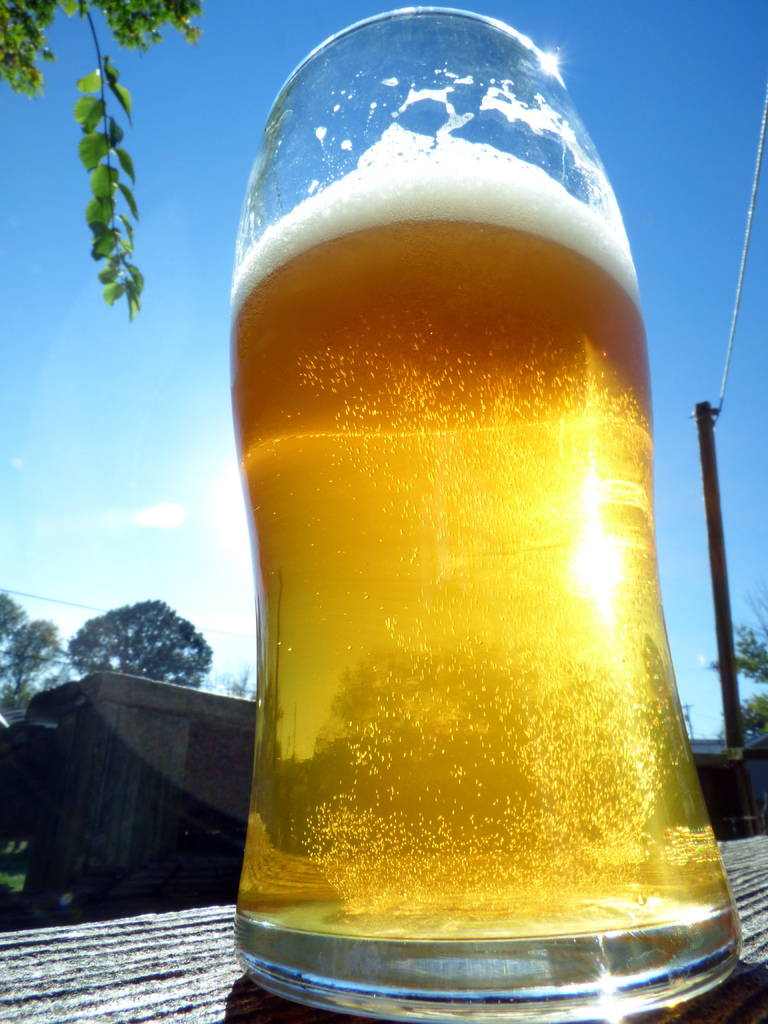Beer: (234, 130, 732, 944)
